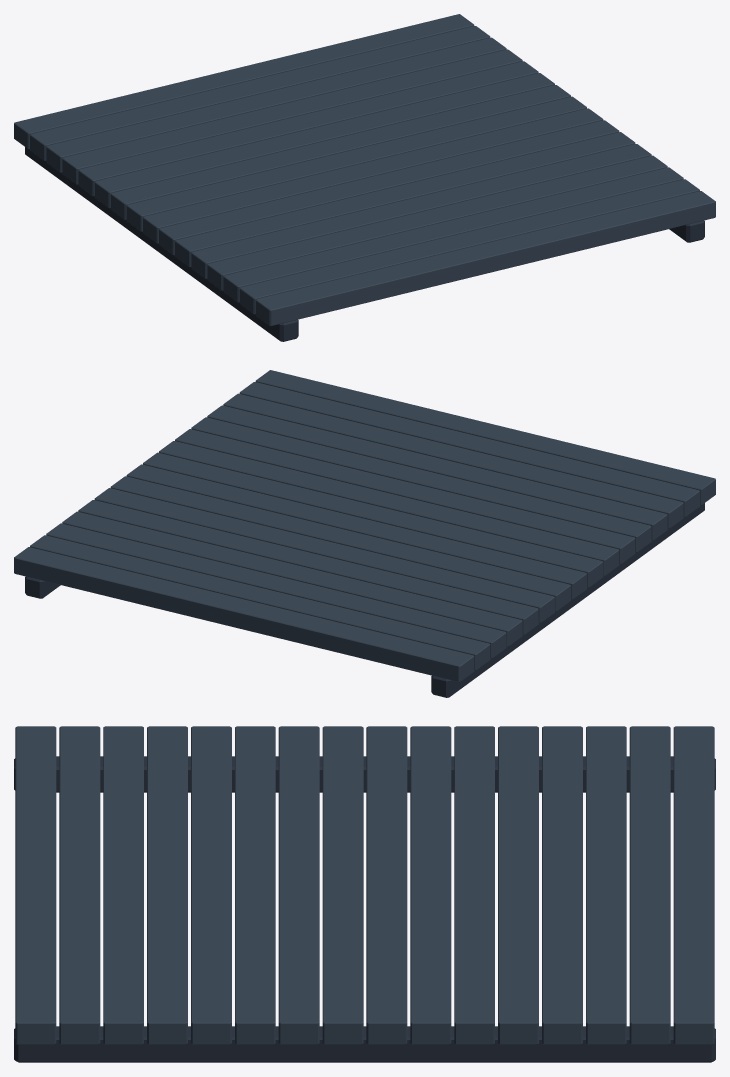
The model's file is bridge-wide.glb.
3 views of the same model, one above another, from view 1: azimuth 30°, elevation 25°; view 2: azimuth 150°, elevation 25°; view 3: azimuth 270°, elevation 25° (orthographic). The views are drawn at different scales.
Parts seen in each view (by area): view 1: bridge-wide__body; view 2: bridge-wide__body; view 3: bridge-wide__body.
Part boxes in pixels (x1,y1,x2,y2): bridge-wide__body: (14,14,715,341); bridge-wide__body: (14,370,715,697); bridge-wide__body: (14,726,715,1062).
Size of the model in its own units: 4 by 0.3 by 4.
